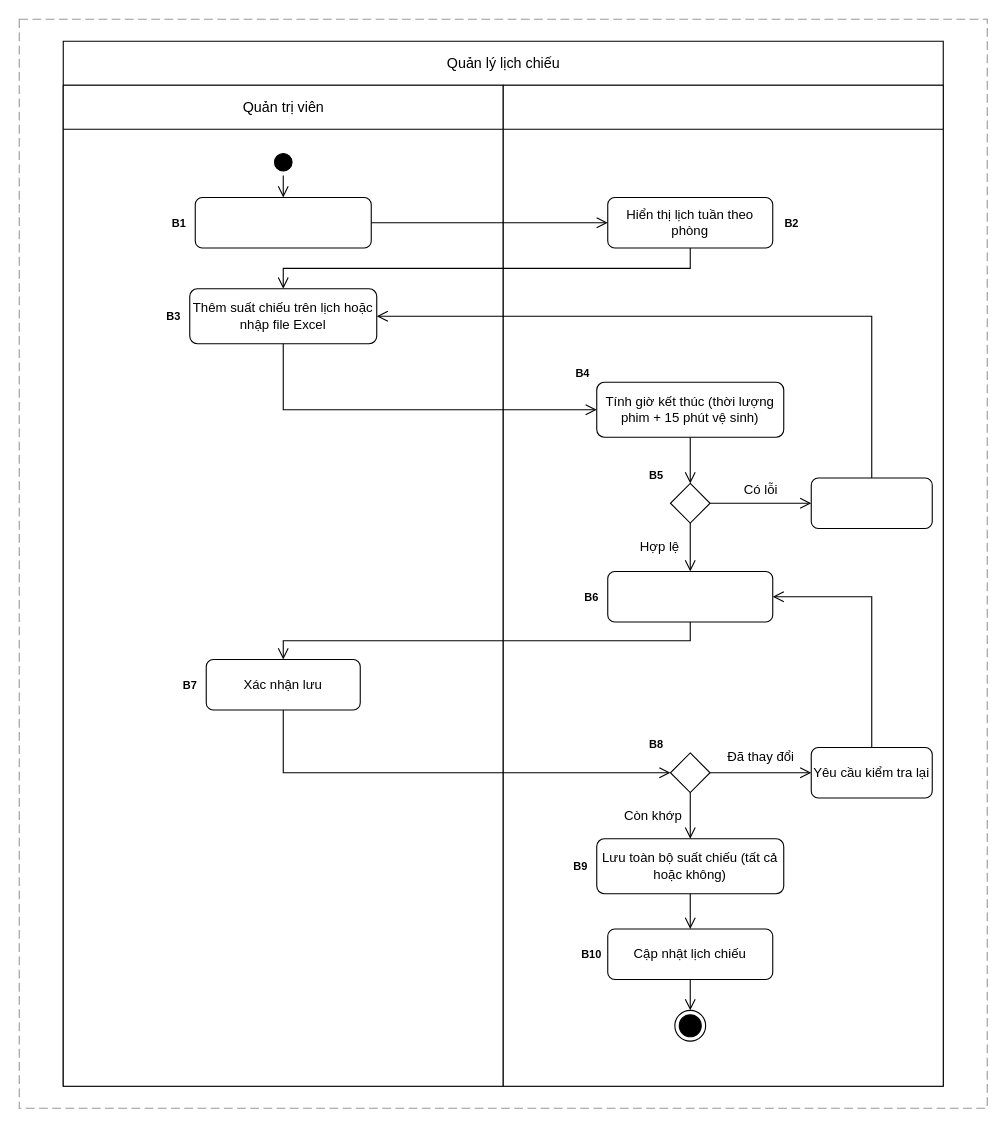
This 1007x1128 diagram has some shape labels left out. Each missing label, with the box of its shape:
Chọn rạp và tuần (Thứ Hai – Chủ nhật): (194, 196, 371, 248)
Hiển thị bản xem trước: (607, 570, 773, 622)
Hiển thị dòng lỗi: (810, 477, 932, 529)
Hệ thống: (502, 84, 943, 1086)
